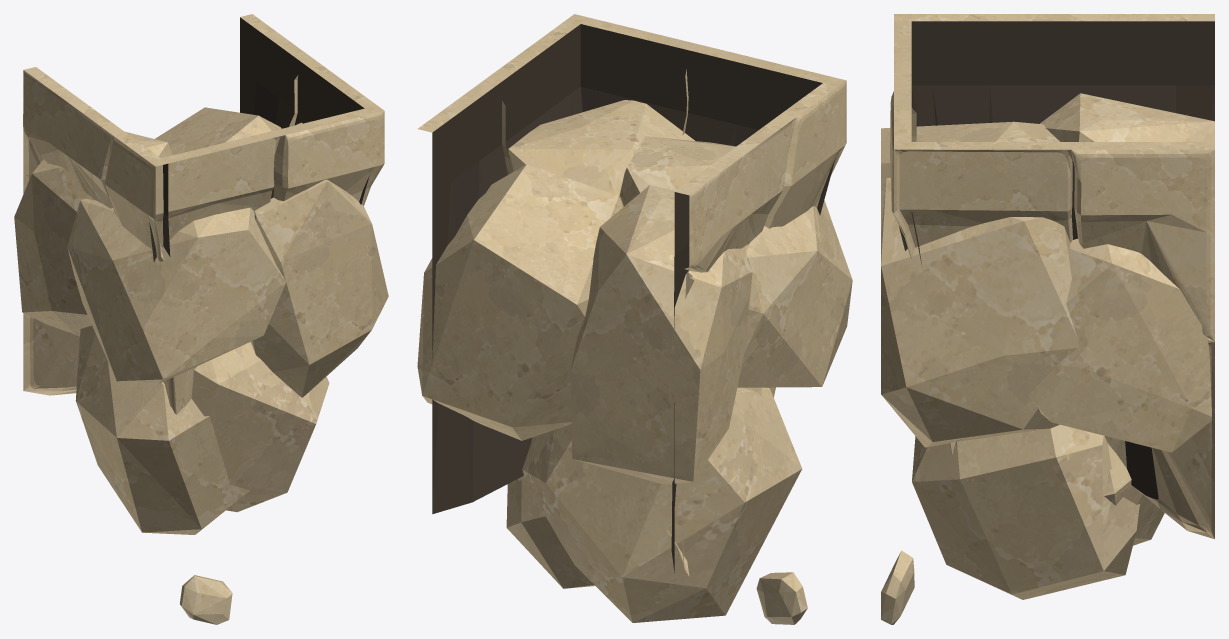
File: ground_bottom_square_end_07.glb
3 views of the same model, side by side, from view 1: azimuth 30°, elevation 25°; view 2: azimuth 150°, elevation 25°; view 3: azimuth 270°, elevation 25° (orthographic). The views are drawn at different scales.
Parts seen in each view (by area): view 1: GroundBottomSquareEnd07_Body; view 2: GroundBottomSquareEnd07_Body; view 3: GroundBottomSquareEnd07_Body.
Boxes of the visible parts, x1,y1,x2,y2 form: GroundBottomSquareEnd07_Body: [14, 14, 388, 624]; GroundBottomSquareEnd07_Body: [417, 14, 852, 624]; GroundBottomSquareEnd07_Body: [881, 14, 1214, 624].
Bounding box in the file's own units: 1.08 × 1.97 × 1.04.
Materials: 13 (12 with a texture image).
